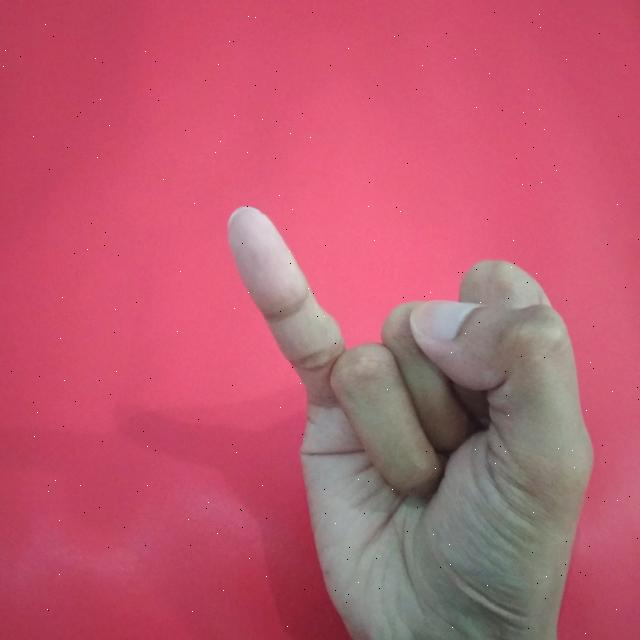I: (224, 201, 600, 640)
